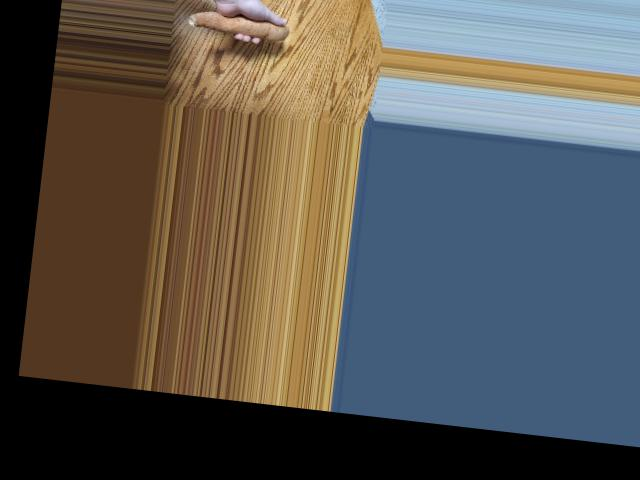sweet_potato: (185, 2, 298, 47)
